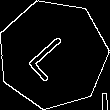L_NE: (24, 26, 82, 83)
